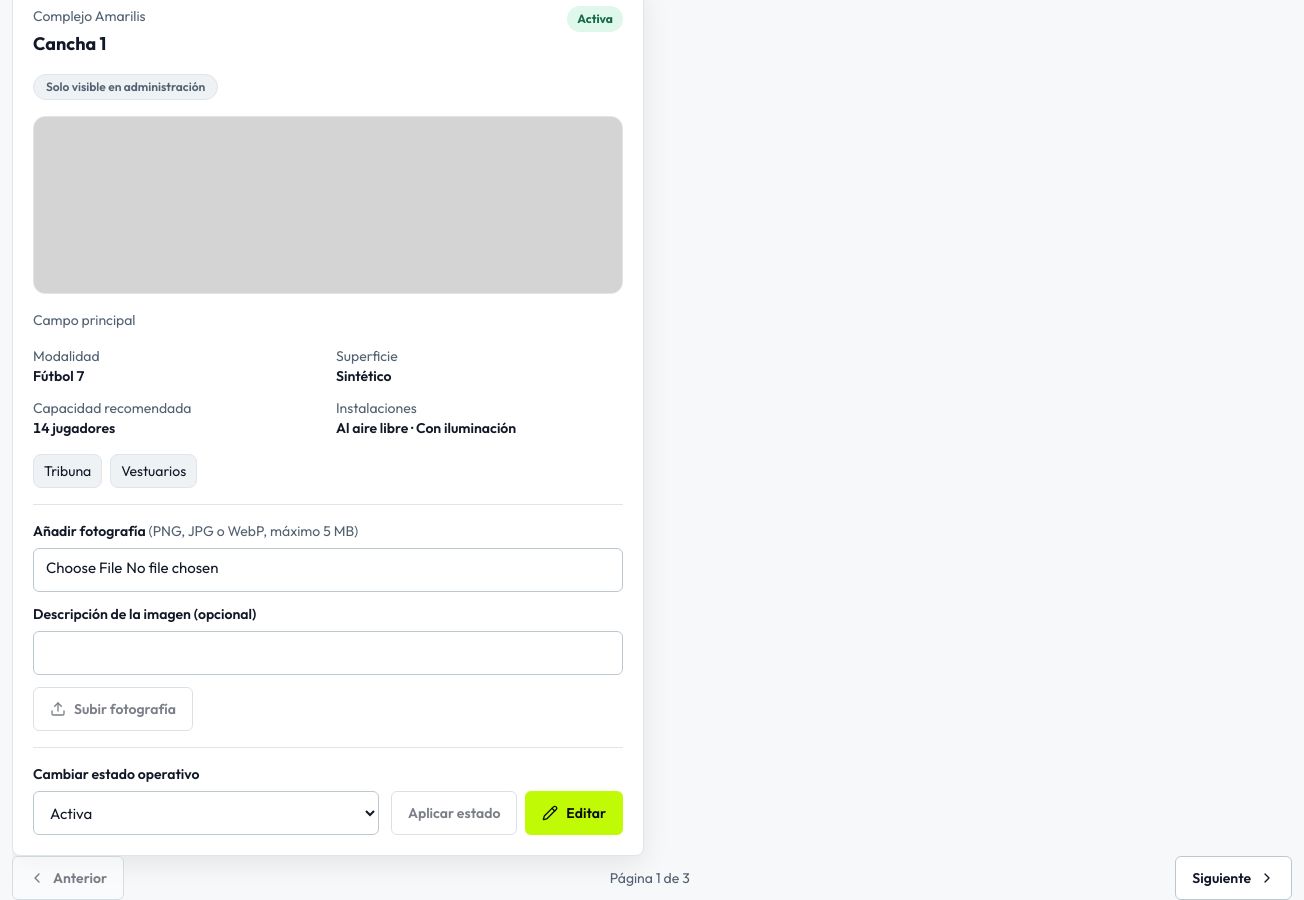
listado y filtros › pagina resultados con el conteo DRF
The width and height of the screenshot is (1304, 900).
(page scrolled)
Click the button "Siguiente": (1234, 878) x1=1175 y1=856 x2=1292 y2=899
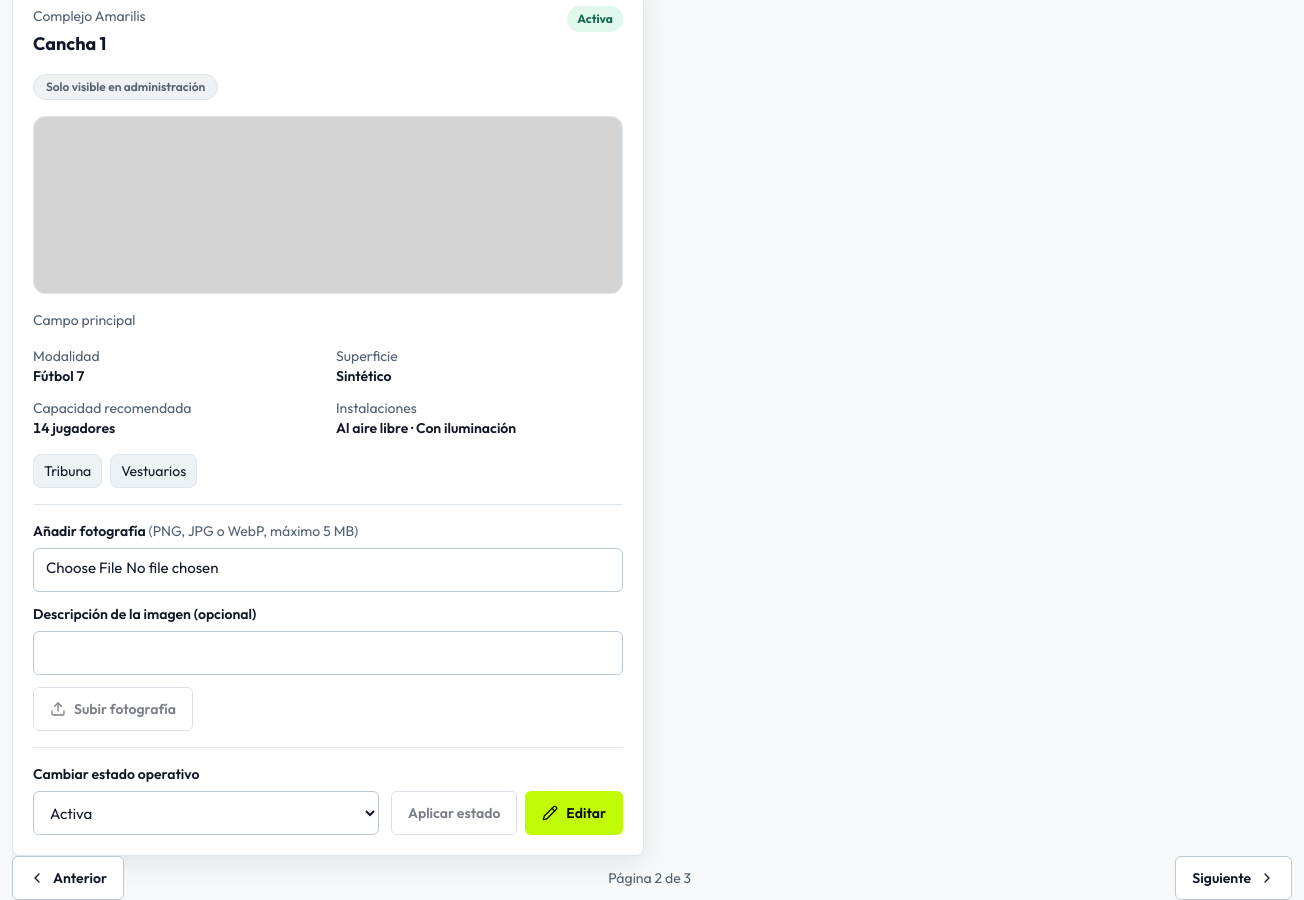
Expected: the text "Página 2 de 3" is shown, x1=608 y1=868 x2=691 y2=888
